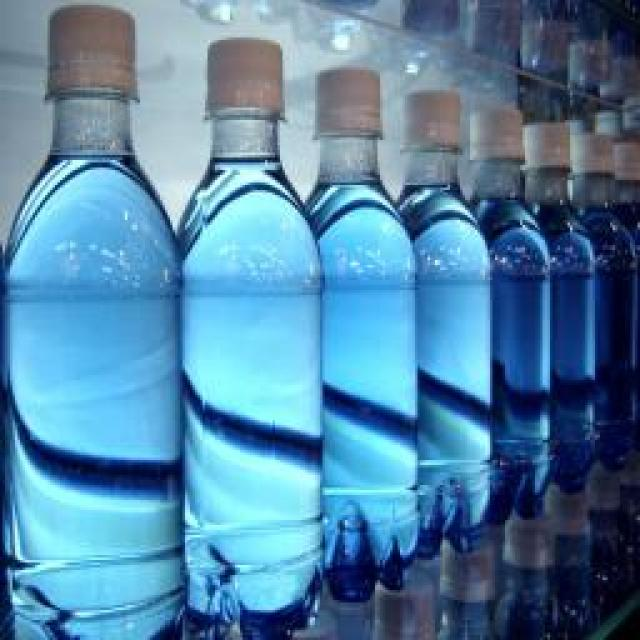bottle: (2, 5, 180, 640), (180, 37, 322, 627), (310, 68, 412, 605), (410, 88, 502, 555)
